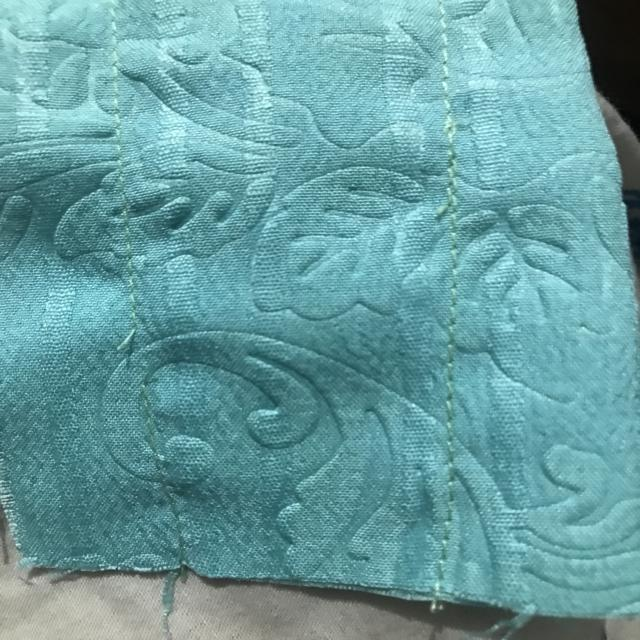broken: (104, 319, 172, 402)
